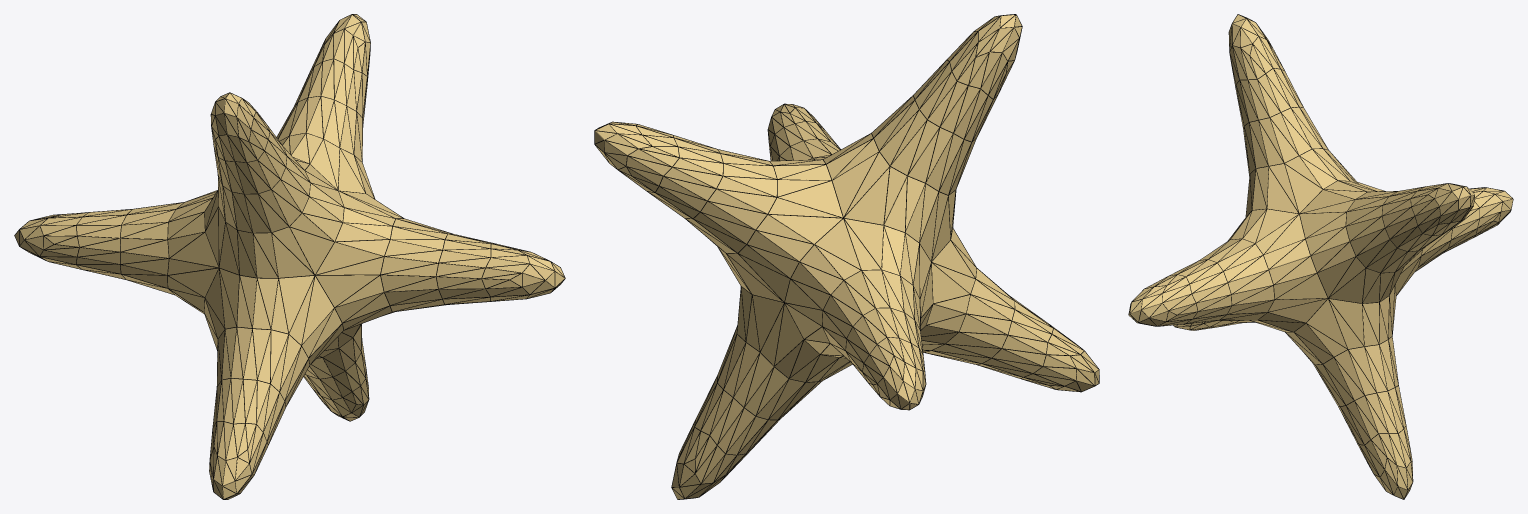
The model's file is web2.glb.
3 renders of one model, left to right at view 1: azimuth 30°, elevation 25°; view 2: azimuth 150°, elevation 25°; view 3: azimuth 270°, elevation 25°, orthographic. The views are drawn at different scales.
Visible parts, largest first — view 1: web2; view 2: web2; view 3: web2.
Boxes of the visible parts, x1,y1,x2,y2 form: web2: (14, 14, 565, 499); web2: (594, 14, 1099, 499); web2: (1128, 14, 1513, 499).
Size of the model in its own units: 4.3 by 5.36 by 4.8.
